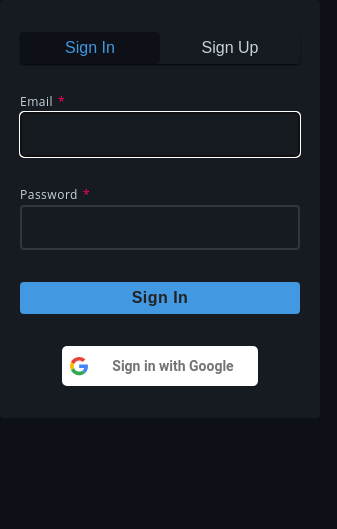
it: auth form › type change works properly
Check: the button with test id "form-submit" reads "Sign In", box x1=20 y1=282 x2=300 y2=314
Click the button "Sign Up": x=230, y=48 x1=160 y1=32 x2=300 y2=64
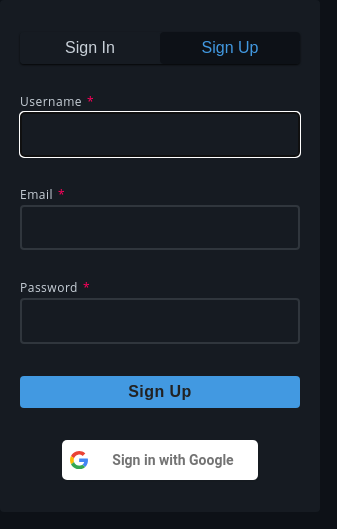
Check: the button with test id "form-submit" reads "Sign Up", box x1=20 y1=376 x2=300 y2=408
Click the button "Sign In": x=90, y=48 x1=20 y1=32 x2=160 y2=64
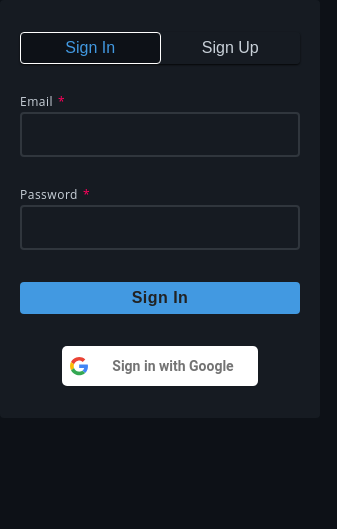
Check: the button with test id "form-submit" reads "Sign In", box x1=20 y1=282 x2=300 y2=314
